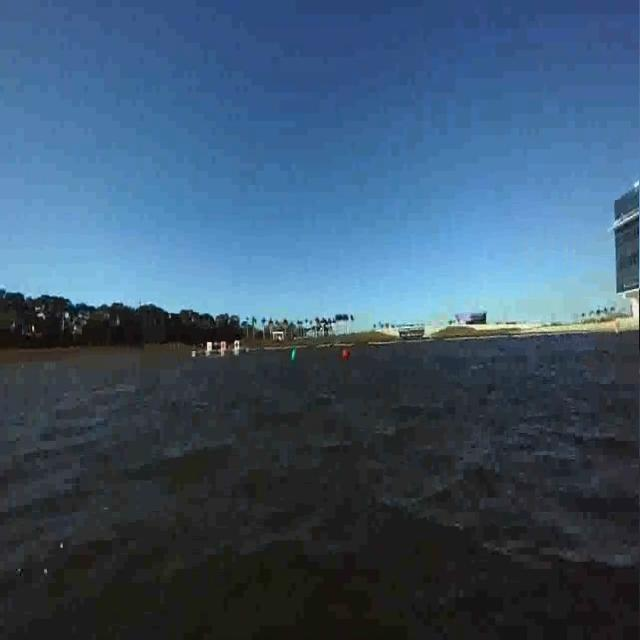green-buoy: (291, 347, 296, 362)
red-buoy: (343, 350, 350, 360)
